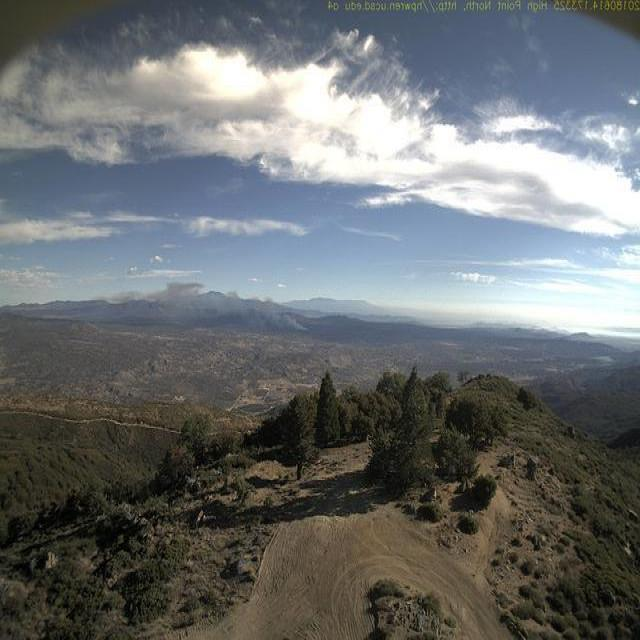smoke: (113, 272, 310, 333)
